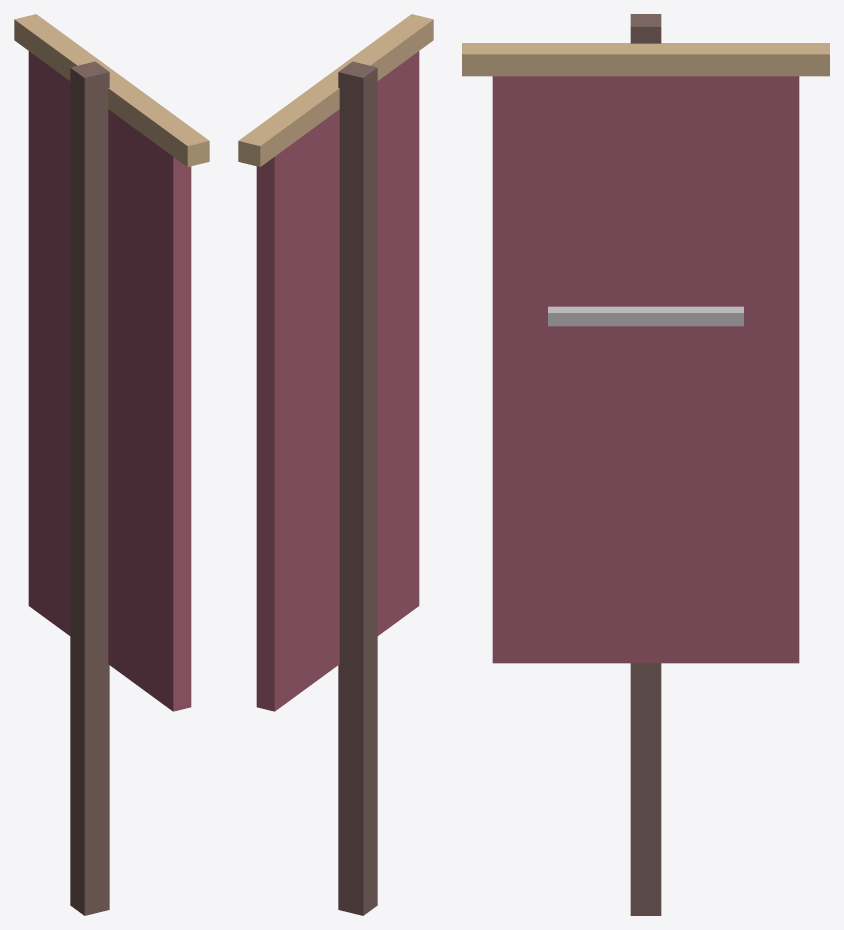
File: dojo_clan_banner.glb
3 views of the same model, side by side, from view 1: azimuth 30°, elevation 25°; view 2: azimuth 150°, elevation 25°; view 3: azimuth 270°, elevation 25° (orthographic). The views are drawn at different scales.
Visible parts, largest first — view 1: dojo_clan_banner_01, dojo_clan_banner_00, dojo_clan_banner_02; view 2: dojo_clan_banner_01, dojo_clan_banner_00, dojo_clan_banner_02; view 3: dojo_clan_banner_01, dojo_clan_banner_02, dojo_clan_banner_00, dojo_clan_banner_03.
Part boxes in pixels (x1=…): dojo_clan_banner_01: x1=28, y1=51, x2=191, y2=711; dojo_clan_banner_00: x1=70, y1=61, x2=109, y2=915; dojo_clan_banner_02: x1=14, y1=14, x2=209, y2=166; dojo_clan_banner_01: x1=256, y1=51, x2=419, y2=711; dojo_clan_banner_00: x1=338, y1=61, x2=377, y2=915; dojo_clan_banner_02: x1=238, y1=14, x2=433, y2=166; dojo_clan_banner_01: x1=492, y1=76, x2=799, y2=663; dojo_clan_banner_02: x1=462, y1=43, x2=829, y2=76; dojo_clan_banner_00: x1=630, y1=14, x2=661, y2=915; dojo_clan_banner_03: x1=548, y1=306, x2=743, y2=326.
Bounding box in the file's own units: 0.535 × 8 × 3.
